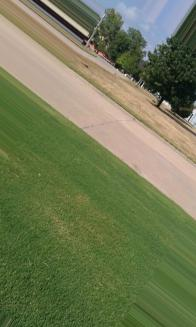patch: (129, 92, 162, 130), (89, 61, 123, 97), (169, 123, 195, 156), (48, 37, 75, 65), (28, 21, 41, 40)
